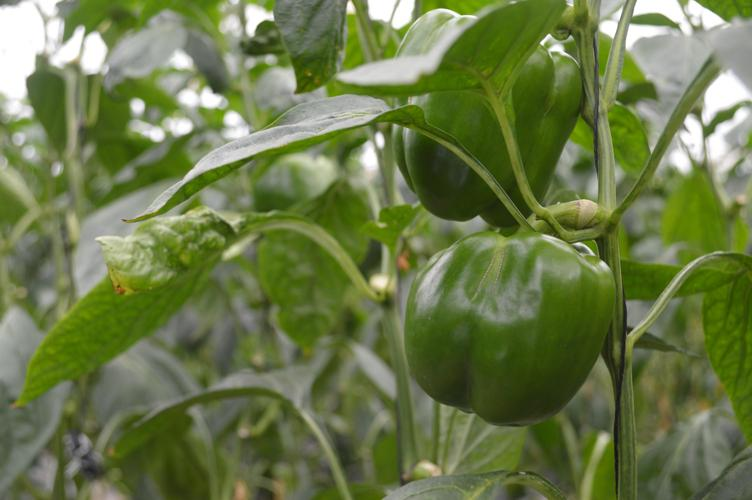BellPepper: (399, 223, 613, 437), (378, 10, 570, 226)
